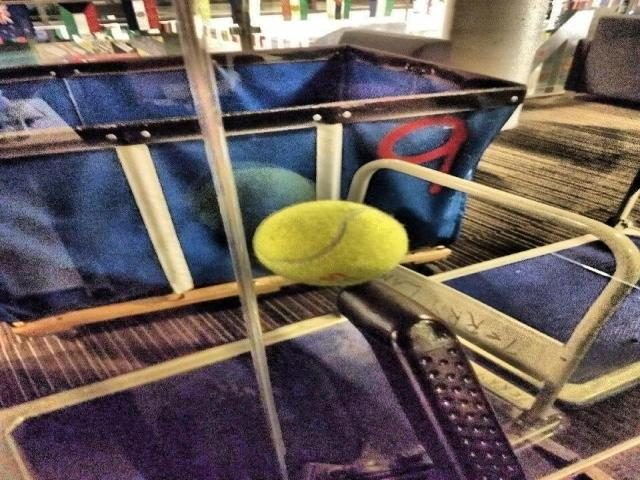tennis-ball: (252, 200, 409, 288)
